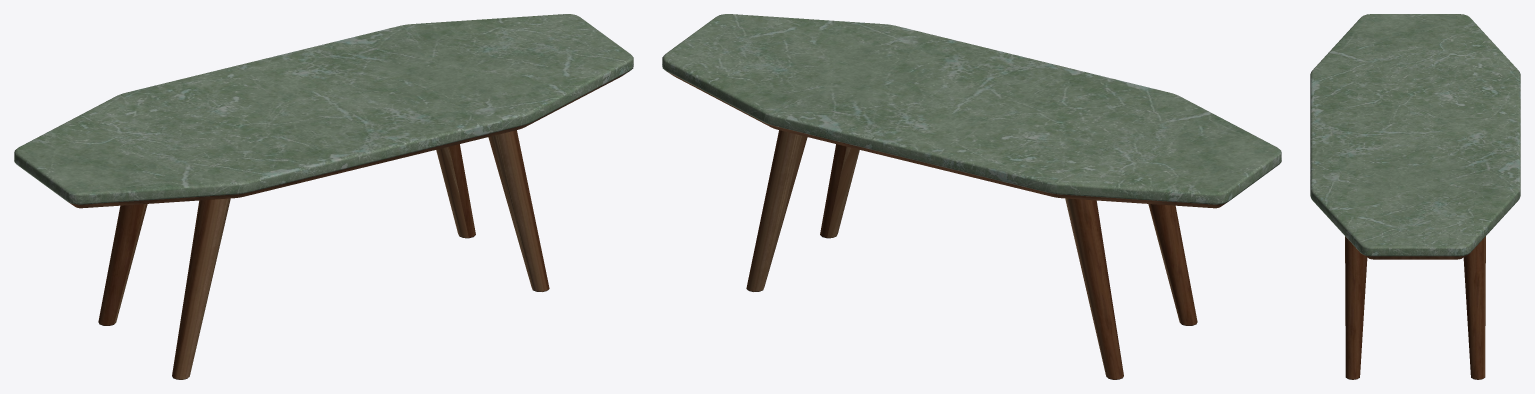
Rendered from marble_table.glb.
The picture shows the model from 3 angles, left to right: view 1: azimuth 30°, elevation 25°; view 2: azimuth 150°, elevation 25°; view 3: azimuth 270°, elevation 25°; orthographic projection. The views are drawn at different scales.
Visible parts, largest first — view 1: g; view 2: g; view 3: g.
Boxes of the visible parts, x1,y1,x2,y2 form: g: [14, 14, 633, 379]; g: [662, 14, 1281, 379]; g: [1310, 14, 1520, 379].
Bounding box in the file's own units: 2 × 0.6912 × 0.759.
Materials: 1 (1 with a texture image).
